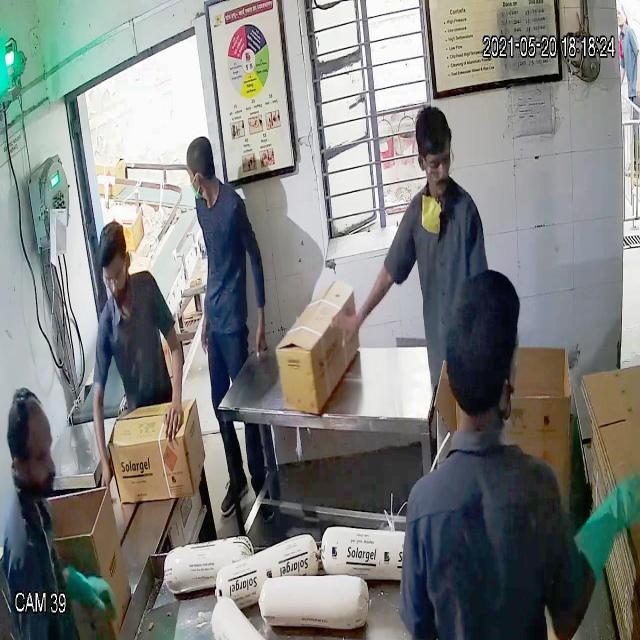glasses: (417, 152, 457, 179), (102, 266, 127, 290)
no-glass: (9, 442, 58, 482)
